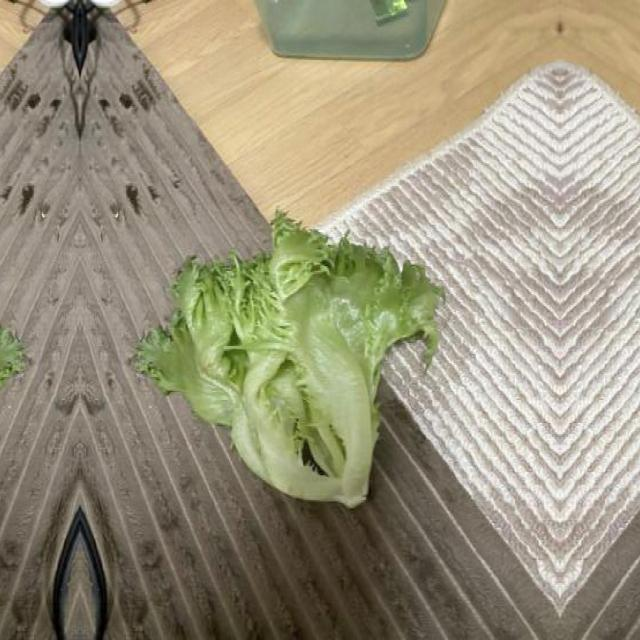healthy: (137, 205, 449, 508), (0, 204, 23, 507)
